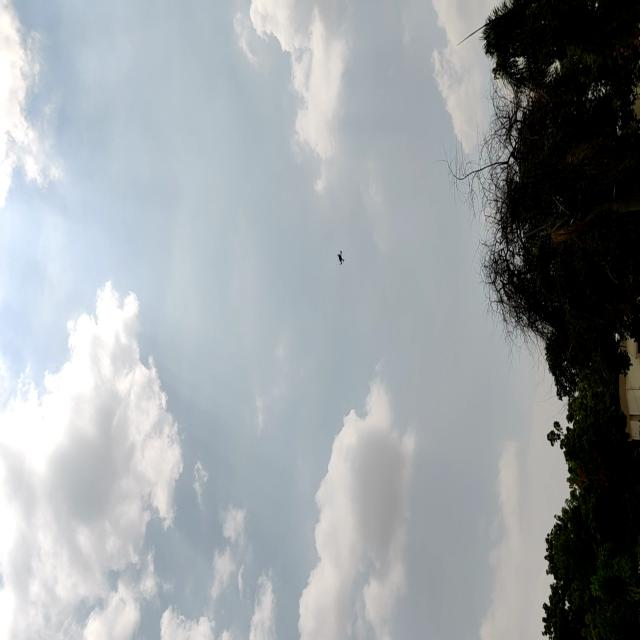drone: (334, 244, 346, 269)
